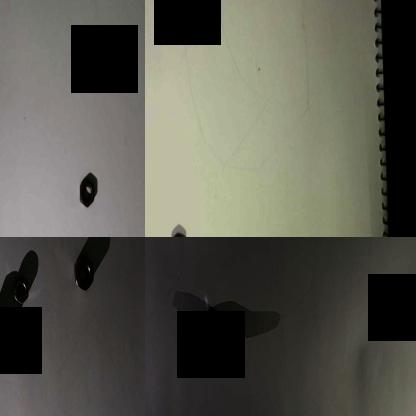Bolts: (201, 299, 237, 345)
NUTS: (74, 252, 96, 296), (76, 171, 96, 209), (0, 310, 13, 361), (12, 276, 30, 306), (167, 224, 187, 237)
